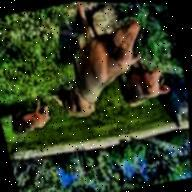boar: (43, 1, 164, 111), (106, 59, 177, 125), (0, 89, 64, 145)
